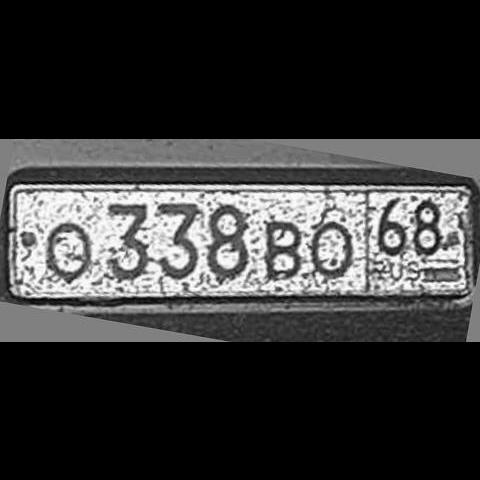license-plateSW: (10, 183, 470, 299)
